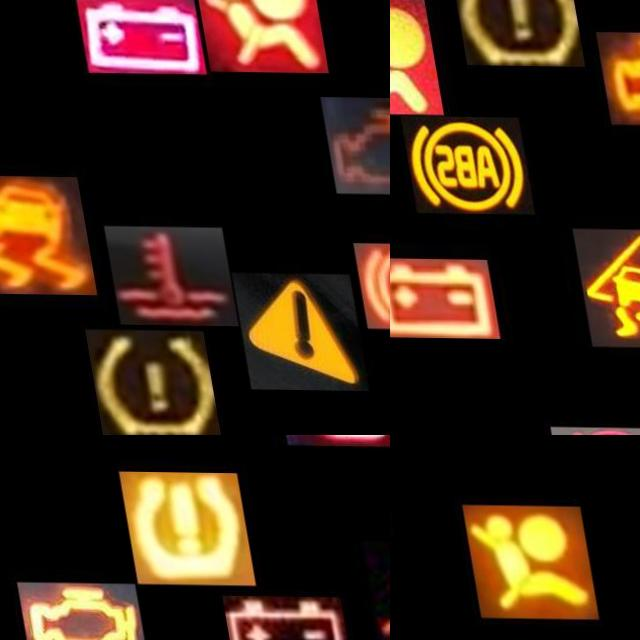Central Warning lamp: (216, 272, 350, 390)
Engine cooling system: (90, 226, 221, 325), (343, 539, 390, 640)
